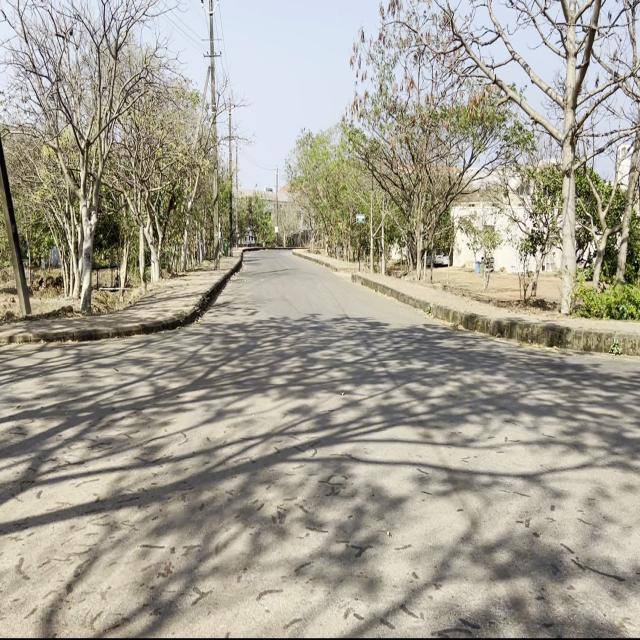Road: (3, 253, 638, 634)
